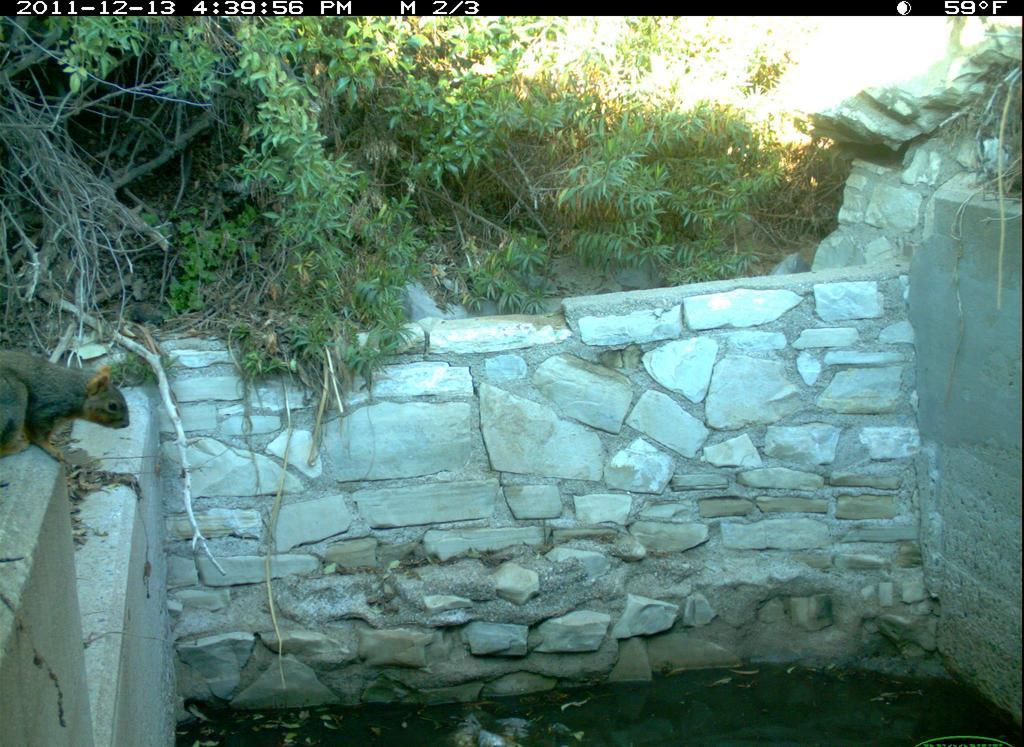squirrel: (2, 344, 137, 466)
